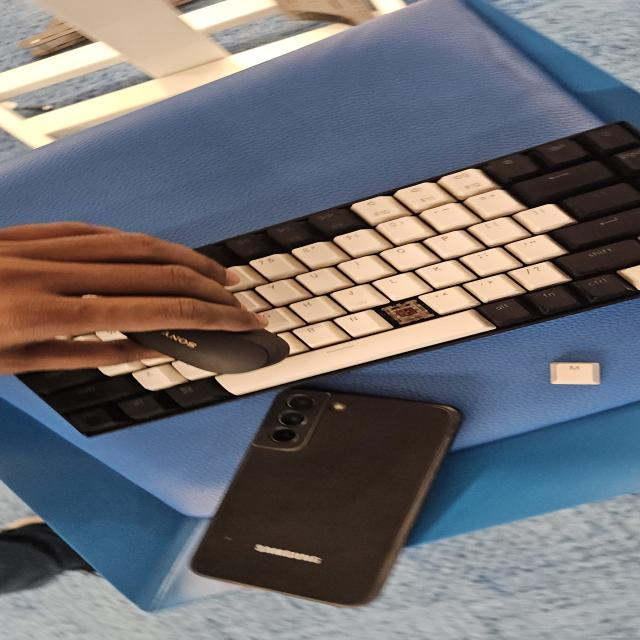C: (390, 302, 432, 324), (382, 307, 428, 320)
